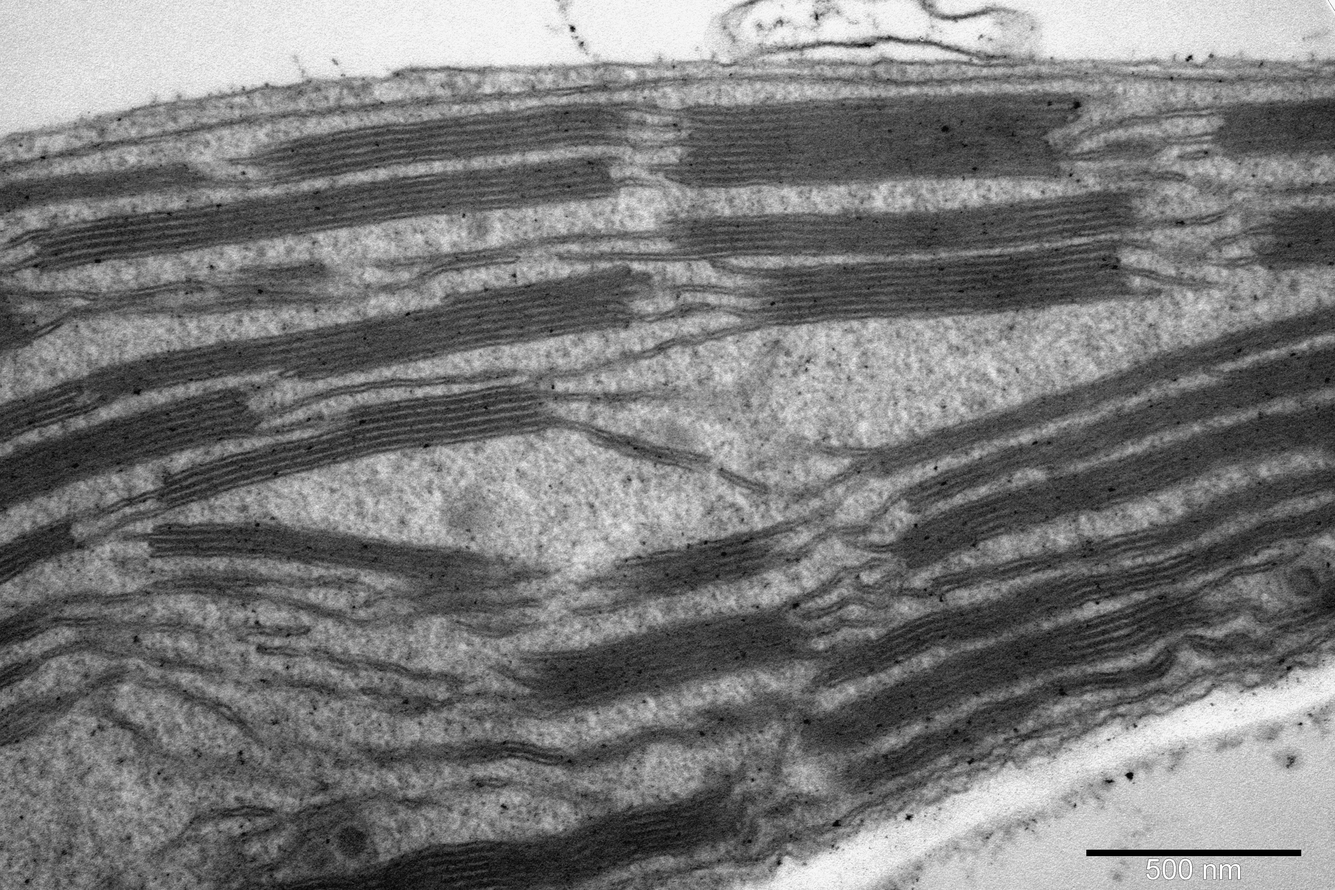granum: (813, 499, 1334, 692), (847, 300, 1335, 484), (84, 259, 656, 409), (896, 395, 1335, 573), (900, 341, 1335, 516), (27, 152, 622, 279), (800, 585, 1218, 759), (158, 377, 561, 515), (273, 777, 753, 890), (674, 87, 1085, 192), (738, 234, 1144, 335), (142, 517, 515, 620), (254, 95, 632, 193), (514, 601, 815, 724), (663, 186, 1142, 263), (0, 382, 258, 516), (1072, 462, 1334, 564), (831, 690, 1033, 798), (604, 520, 786, 617), (0, 158, 213, 226), (212, 256, 329, 320), (1220, 98, 1335, 161), (0, 508, 83, 590), (0, 679, 87, 754), (1254, 198, 1335, 274), (0, 379, 82, 446), (0, 592, 64, 661), (166, 563, 260, 609), (89, 283, 156, 322), (0, 311, 29, 353), (1313, 570, 1335, 623)
